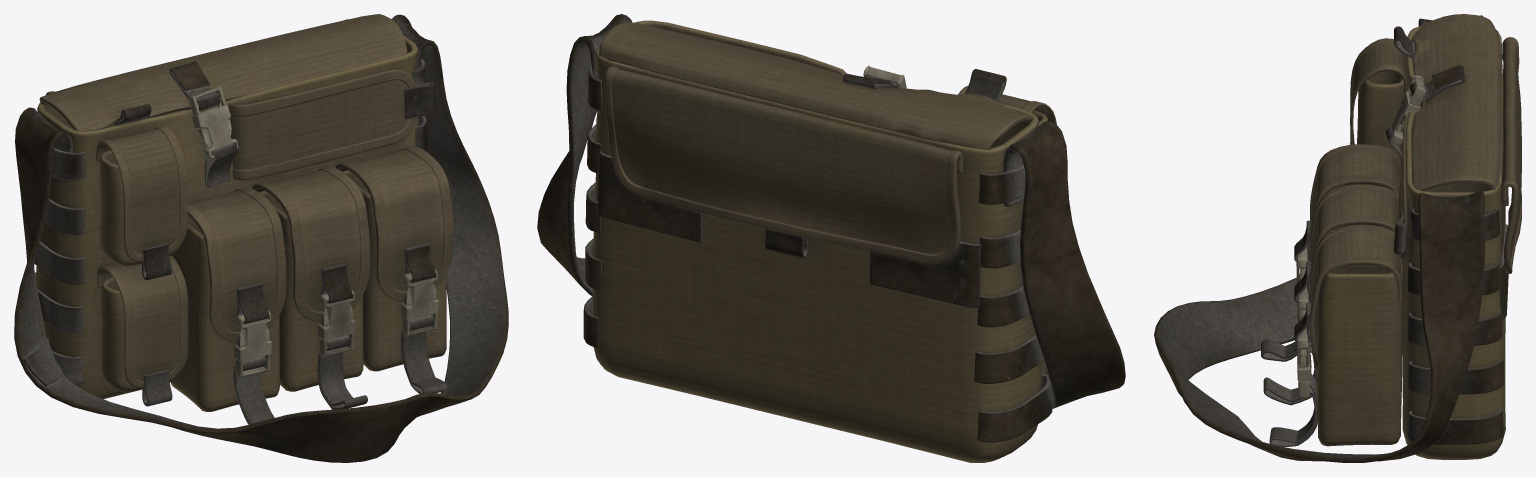
The model's file is bag_messenger.glb.
3 views of the same model, side by side, from view 1: azimuth 30°, elevation 25°; view 2: azimuth 150°, elevation 25°; view 3: azimuth 270°, elevation 25° (orthographic). The views are drawn at different scales.
Parts seen in each view (by area): view 1: cover_001_mesh.006, strap_001_mesh.009, pocket_001_mesh.005, main_mesh.008, buckle_001_mesh.009; view 2: main_mesh.008, cover_001_mesh.006, strap_001_mesh.009; view 3: strap_001_mesh.009, cover_001_mesh.006, pocket_001_mesh.005, main_mesh.008, buckle_001_mesh.009.
Boxes of the visible parts, x1,y1,x2,y2 form: cover_001_mesh.006: (39, 14, 453, 388); strap_001_mesh.009: (14, 14, 508, 462); pocket_001_mesh.005: (99, 150, 446, 411); main_mesh.008: (36, 35, 418, 399); buckle_001_mesh.009: (188, 86, 438, 377); main_mesh.008: (592, 20, 1041, 462); cover_001_mesh.006: (599, 22, 1056, 263); strap_001_mesh.009: (537, 14, 1125, 442); strap_001_mesh.009: (1154, 15, 1510, 462); cover_001_mesh.006: (1310, 14, 1521, 368); pocket_001_mesh.005: (1317, 70, 1404, 446); main_mesh.008: (1401, 26, 1505, 459); buckle_001_mesh.009: (1296, 75, 1426, 398).
Bounding box in the file's own units: 0.7201 × 0.4332 × 0.4722.
Materials: 5 (5 with a texture image).
